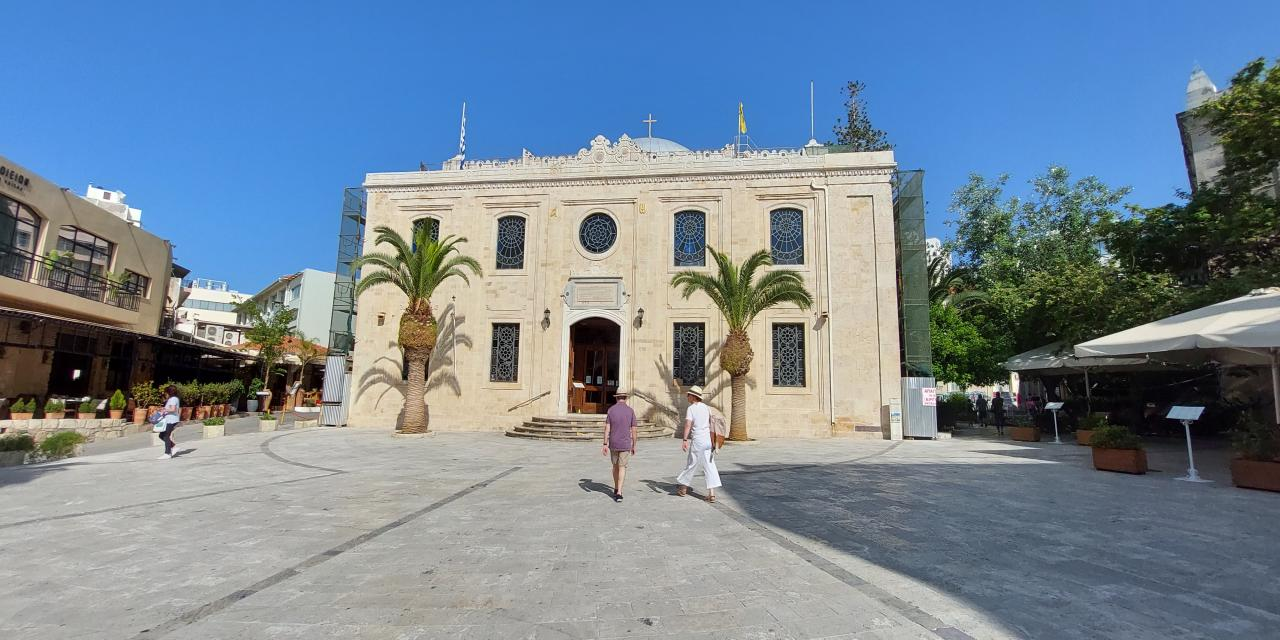Agios Titos: (362, 119, 891, 452)
